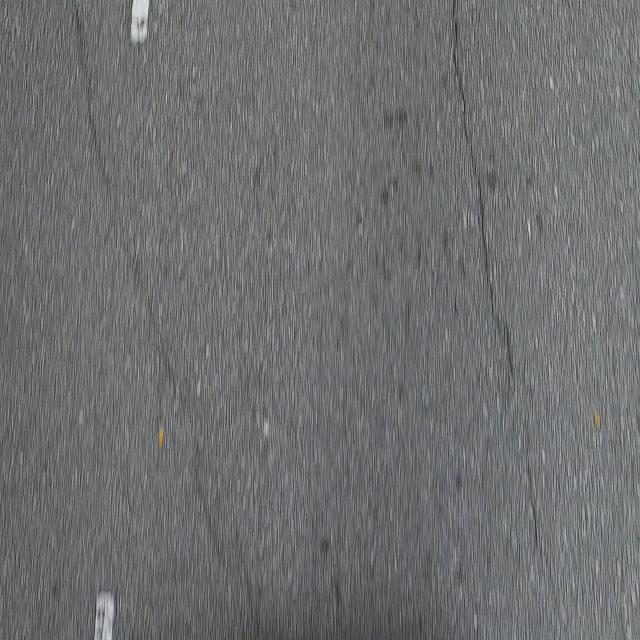Retak-Memanjang: (448, 0, 524, 394), (70, 3, 118, 197)
